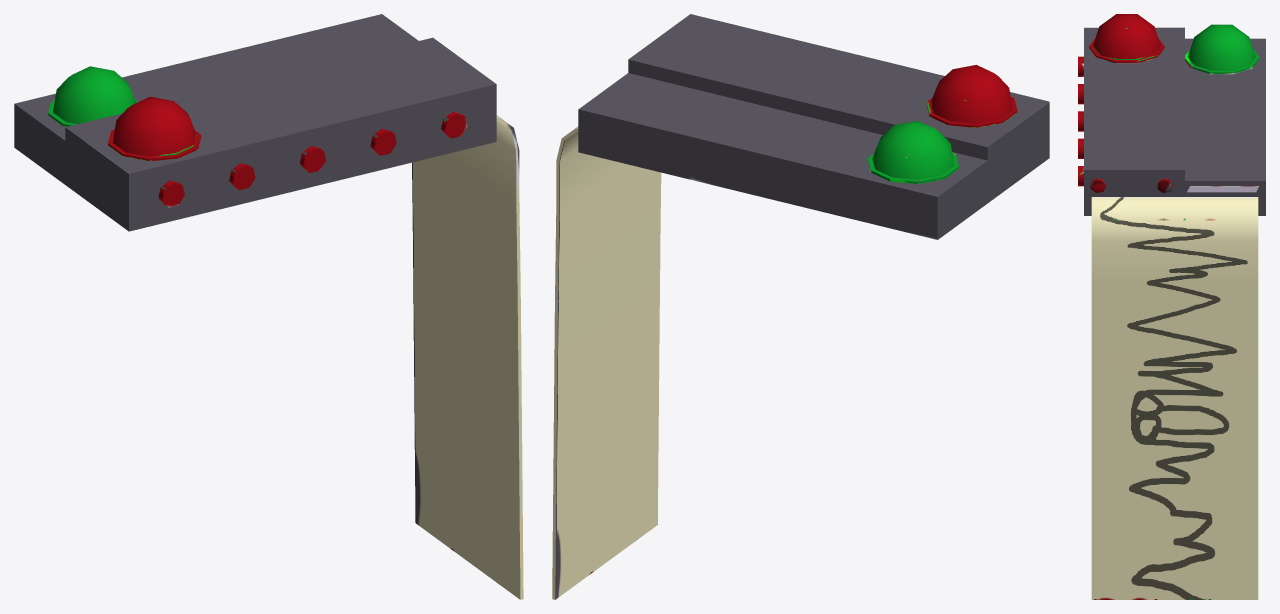
Rendered from fucking_lie_detec.glb.
The picture shows the model from 3 angles, left to right: view 1: azimuth 30°, elevation 25°; view 2: azimuth 150°, elevation 25°; view 3: azimuth 270°, elevation 25°; orthographic projection. The views are drawn at different scales.
Visible parts, largest first — view 1: the; view 2: the; view 3: the.
Boxes of the visible parts, <box> form: the: <box>14,14,523,599</box>; the: <box>552,14,1049,599</box>; the: <box>1078,14,1265,599</box>.
Size of the model in its own units: 2.17 by 2.95 by 1.12.
Materials: 1 (1 with a texture image).
